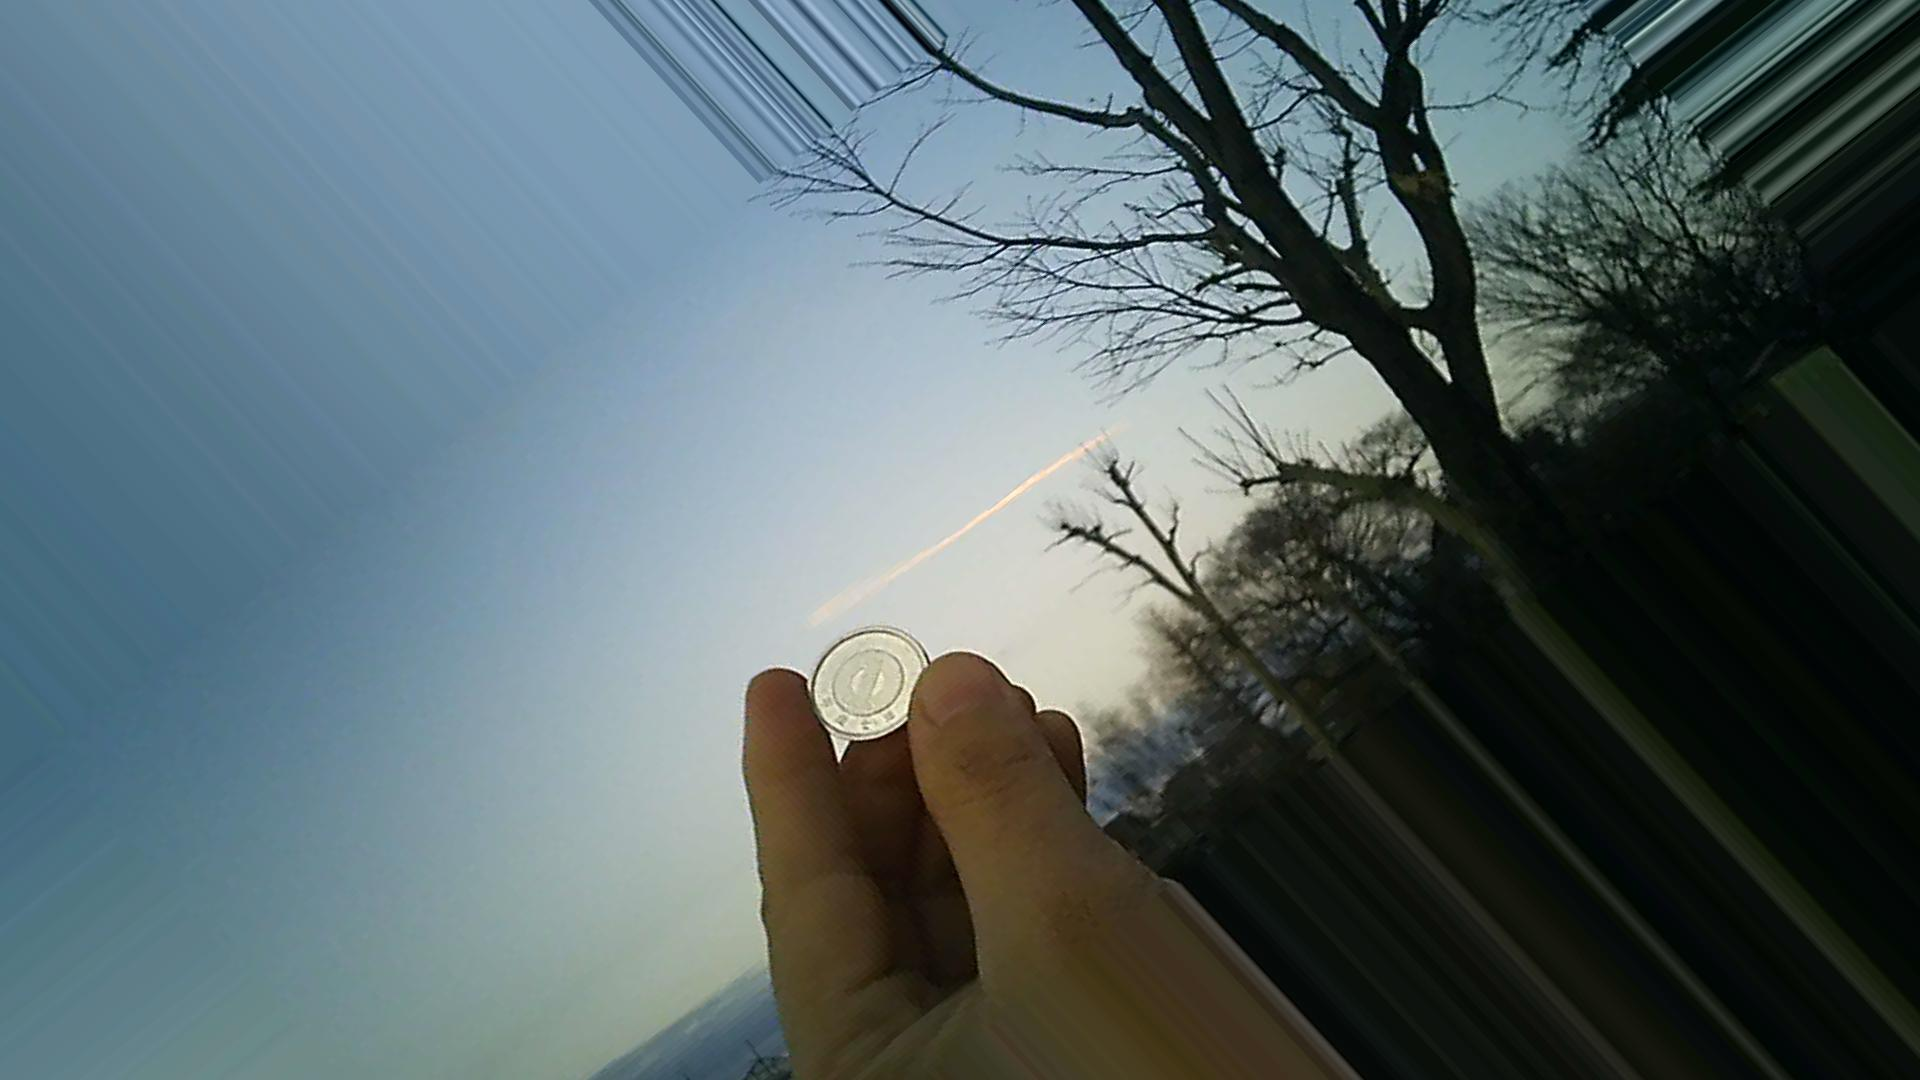1 Yen: (806, 617, 934, 745)
